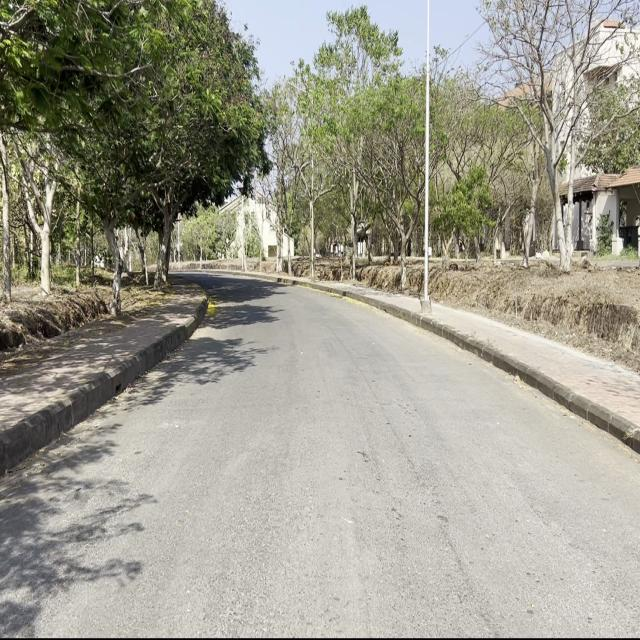Road: (6, 272, 637, 635)
